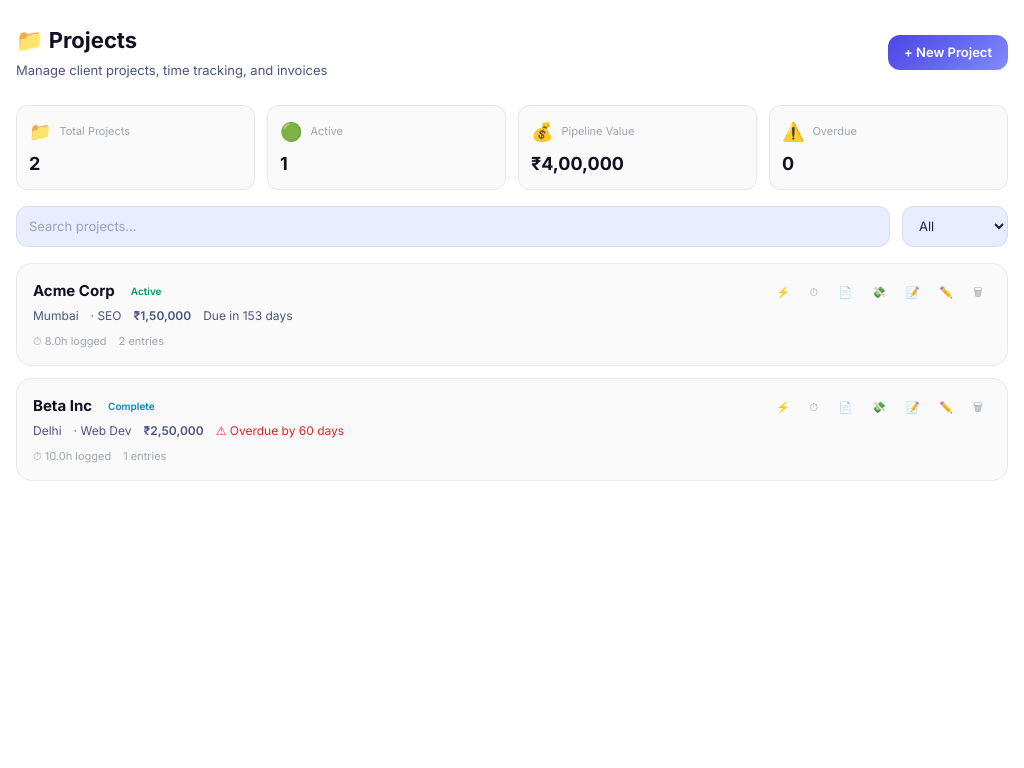
Scenario: ProjectsTab › project actions › opens new project form when "+ New Project" is clicked
Check: the heading "Acme Corp" is shown, box x1=33 y1=280 x2=115 y2=302
Click the button "+ New Project": (948, 52) x1=888 y1=34 x2=1008 y2=70
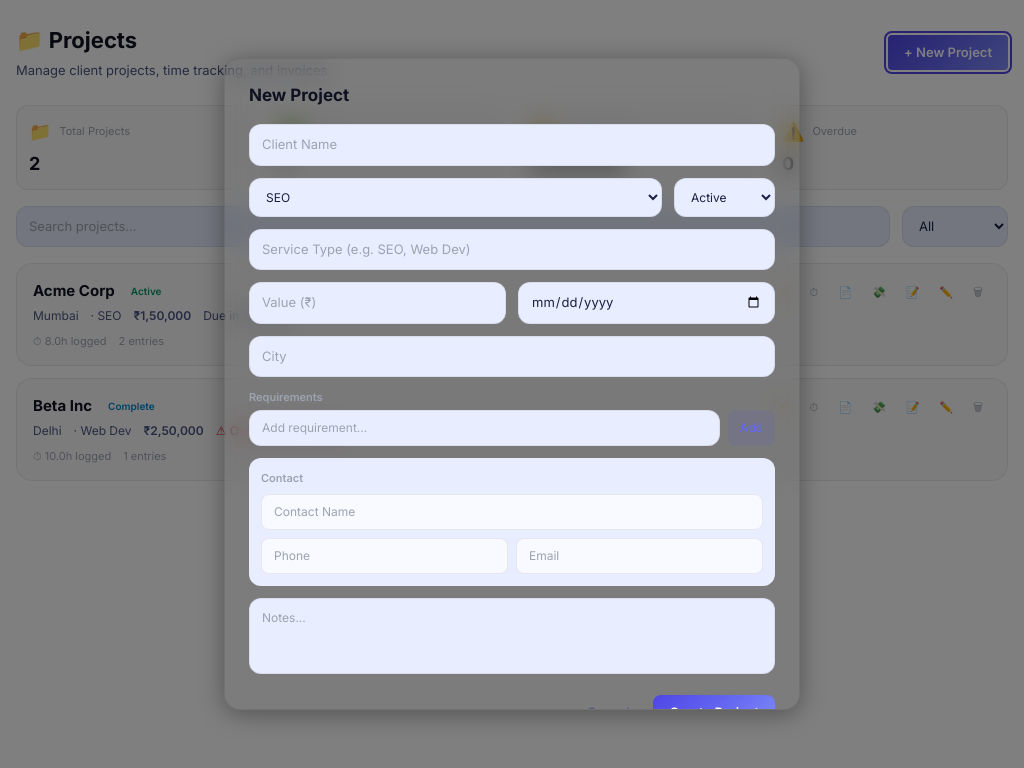
Check: the heading "New Project" is shown, box x1=249 y1=85 x2=349 y2=105
Check: the field with placeholder "Client Name" is shown, box x1=249 y1=124 x2=775 y2=166
